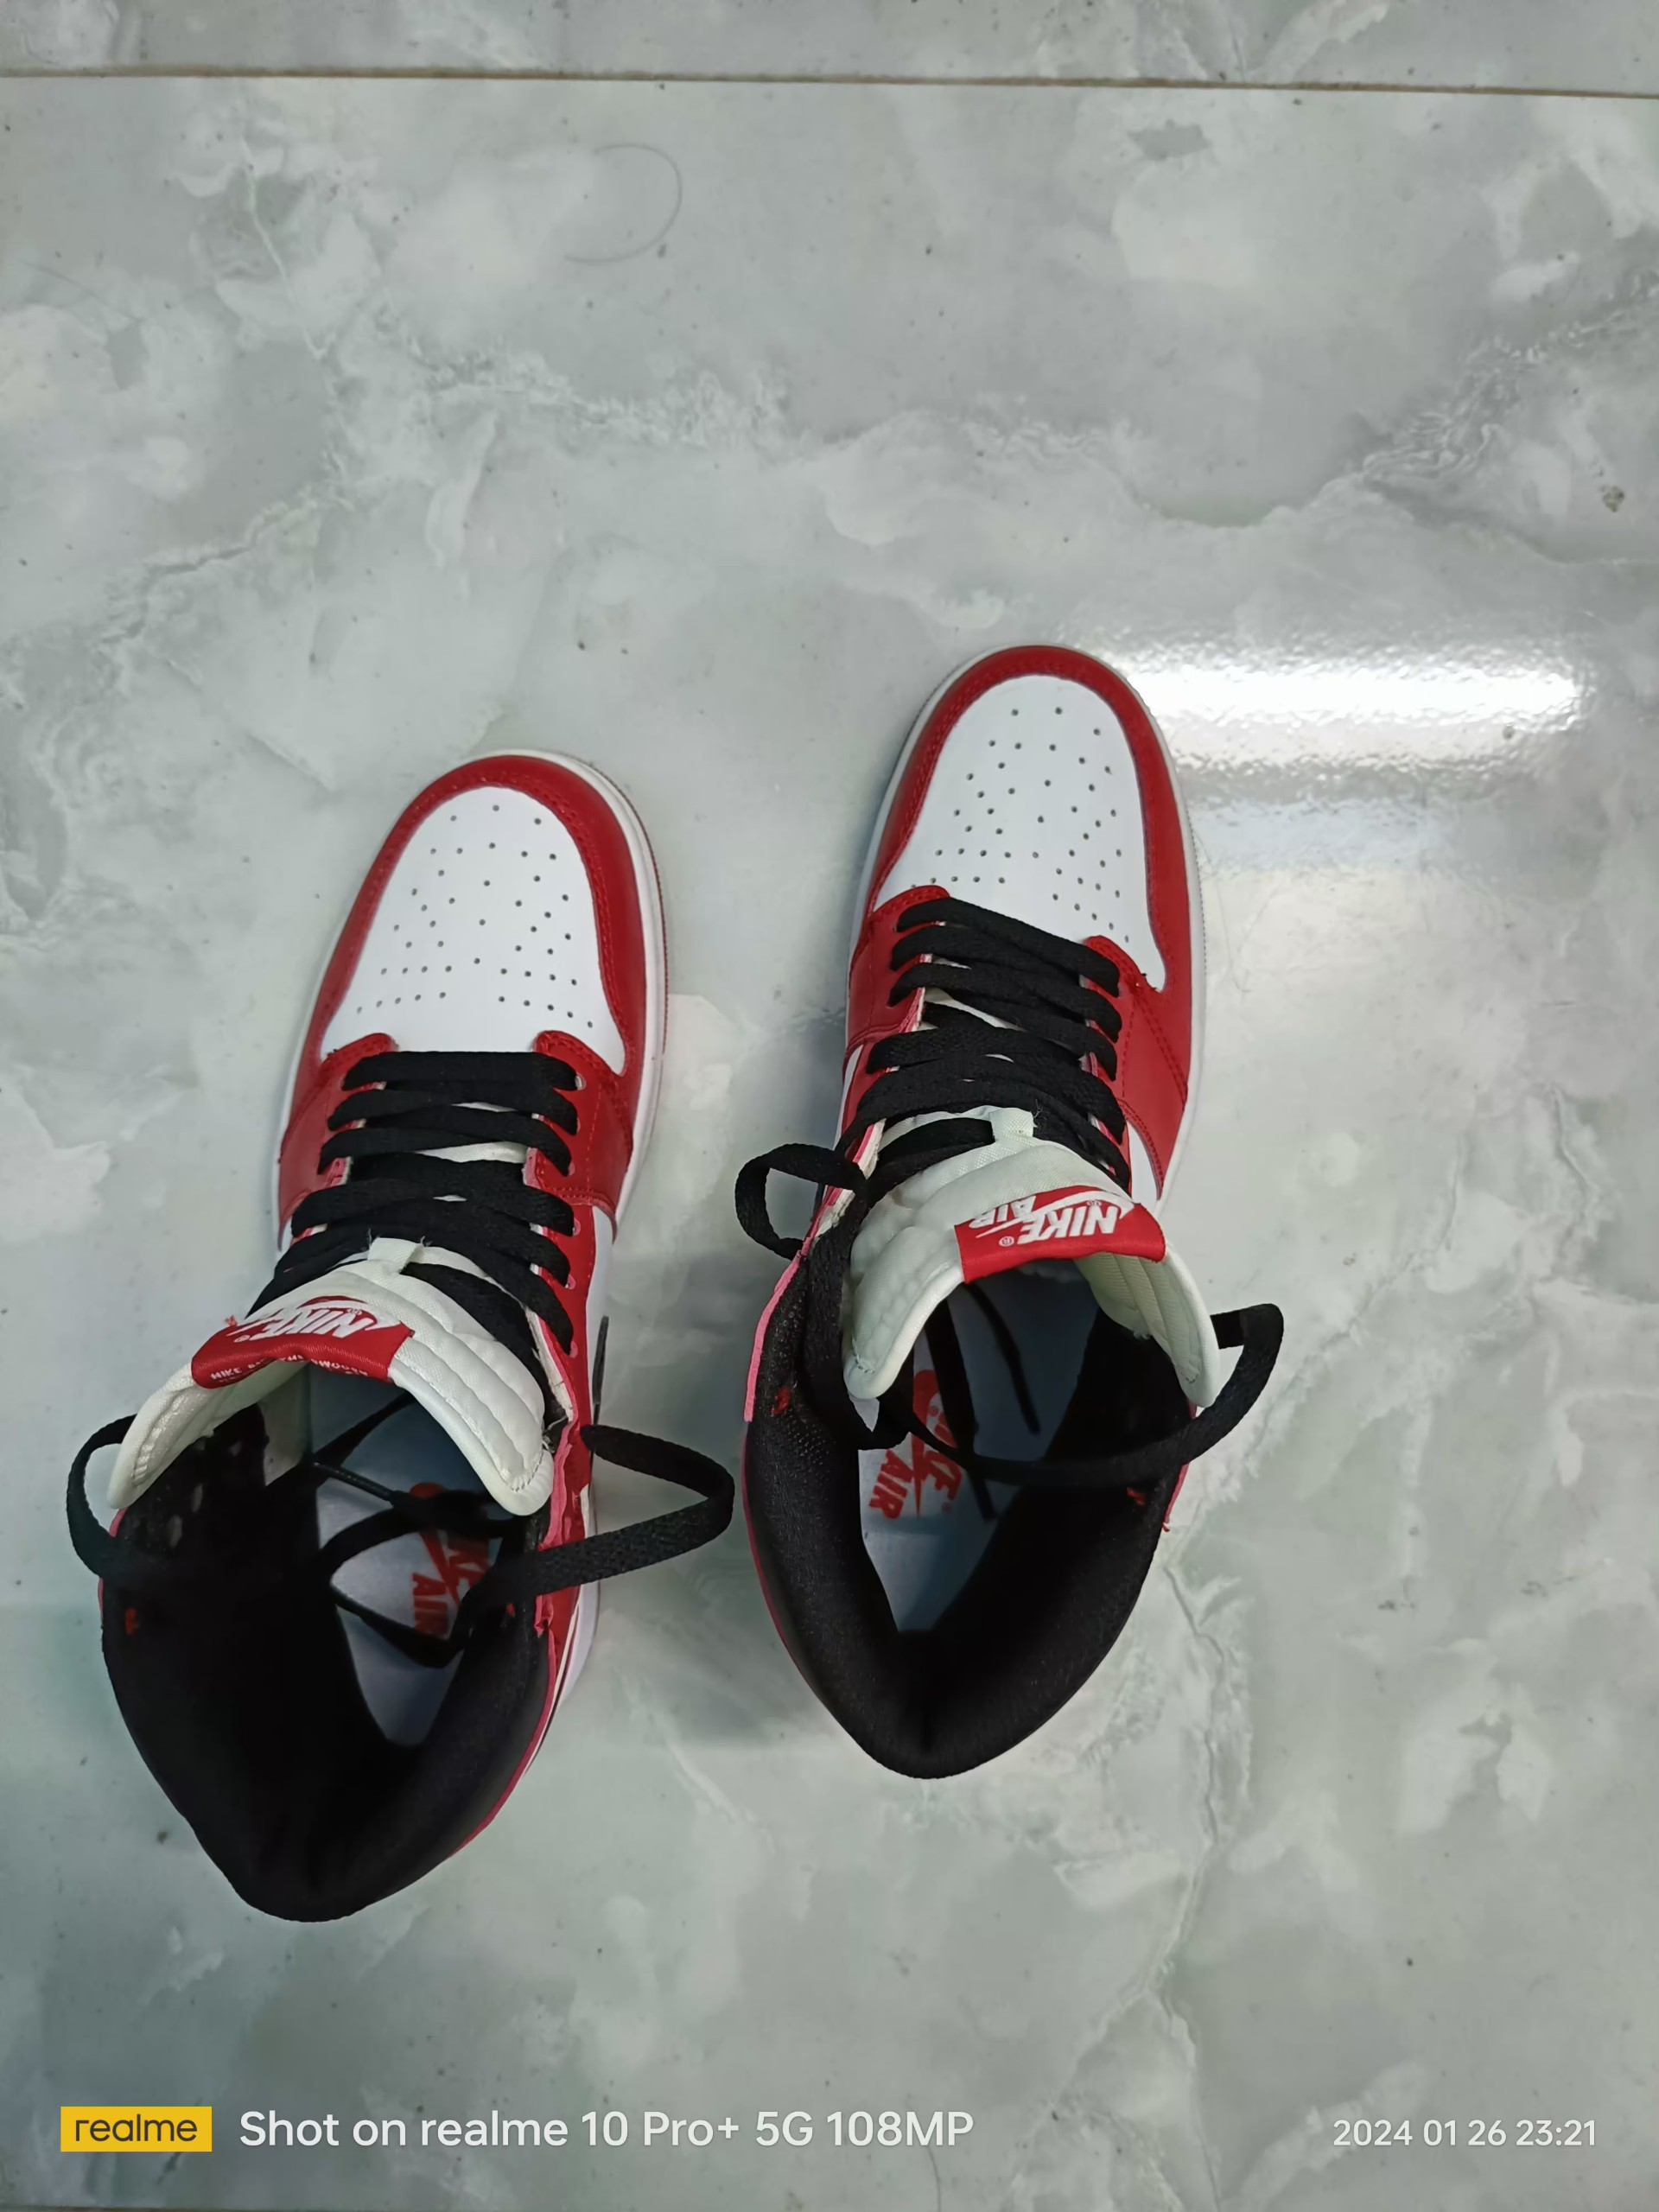sneakers: (94, 747, 687, 1935), (739, 639, 1227, 1794)
